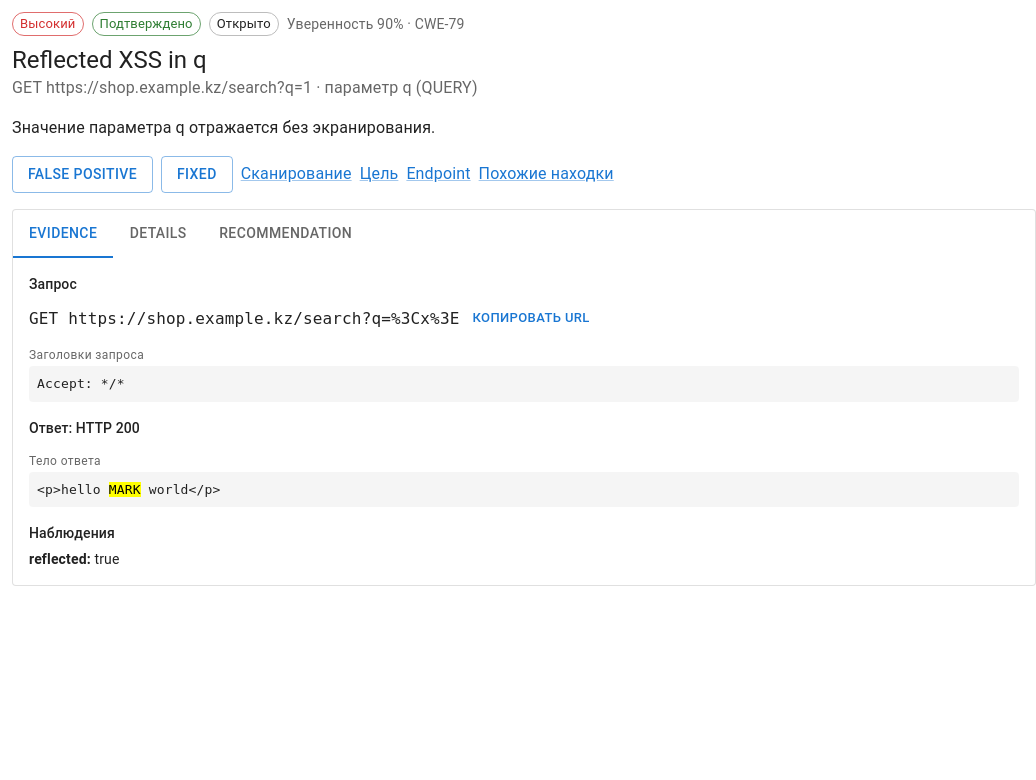
Test: FindingDetailPage › switches between Details and Recommendation tabs
The width and height of the screenshot is (1036, 780).
Click the tab "Details".
click(158, 234)  # box top-left (113, 210), bottom-right (203, 258)
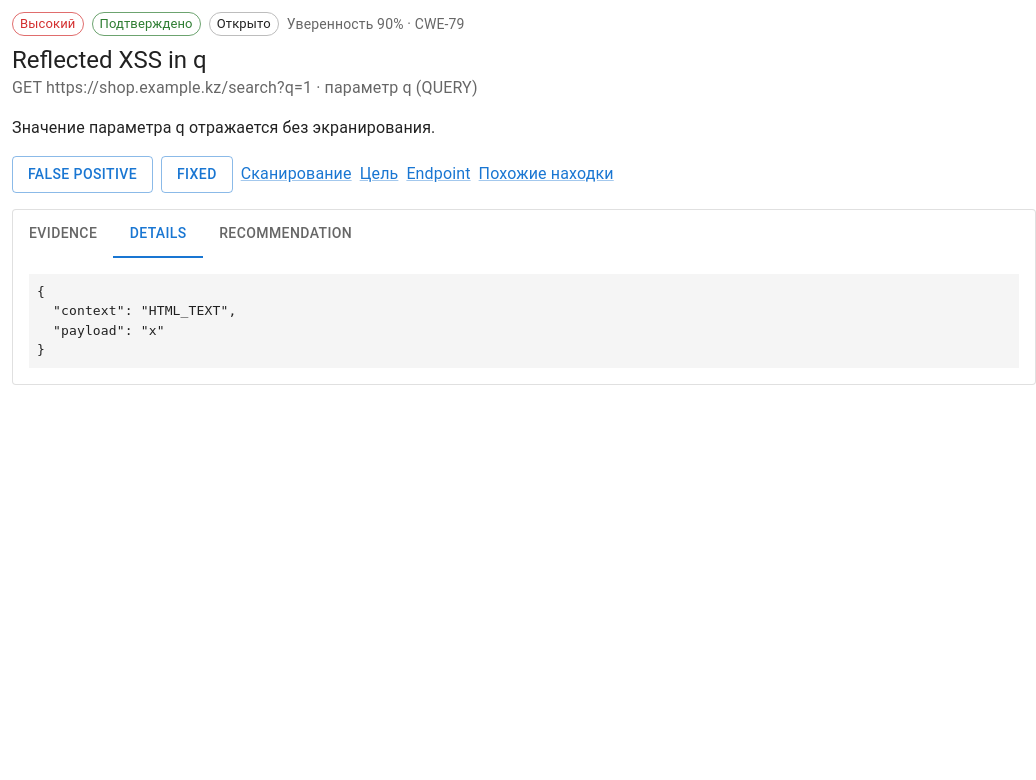
Expected: the text "{ \"context\": \"HTML_TEXT\", \"payload\": \"x\" }" is shown, top-left (29, 274), bottom-right (1019, 368)
Click the tab "Recommendation".
click(286, 234)  # box top-left (203, 210), bottom-right (368, 258)
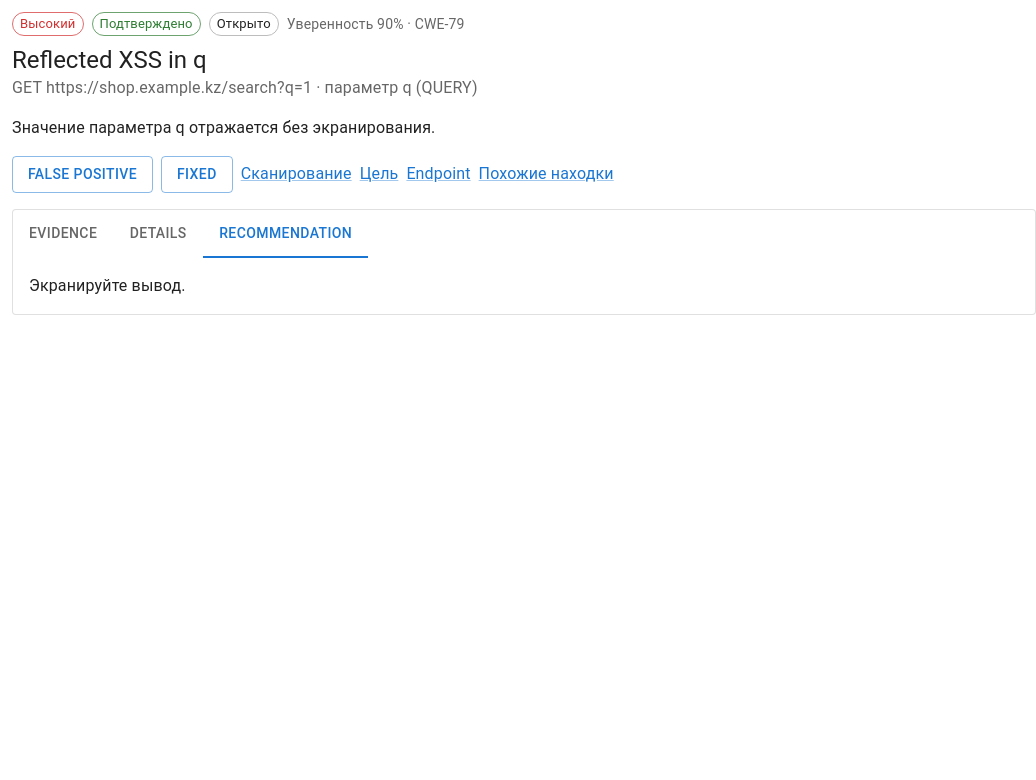
Expected: the text "Экранируйте вывод." is shown, top-left (29, 276), bottom-right (186, 294)
